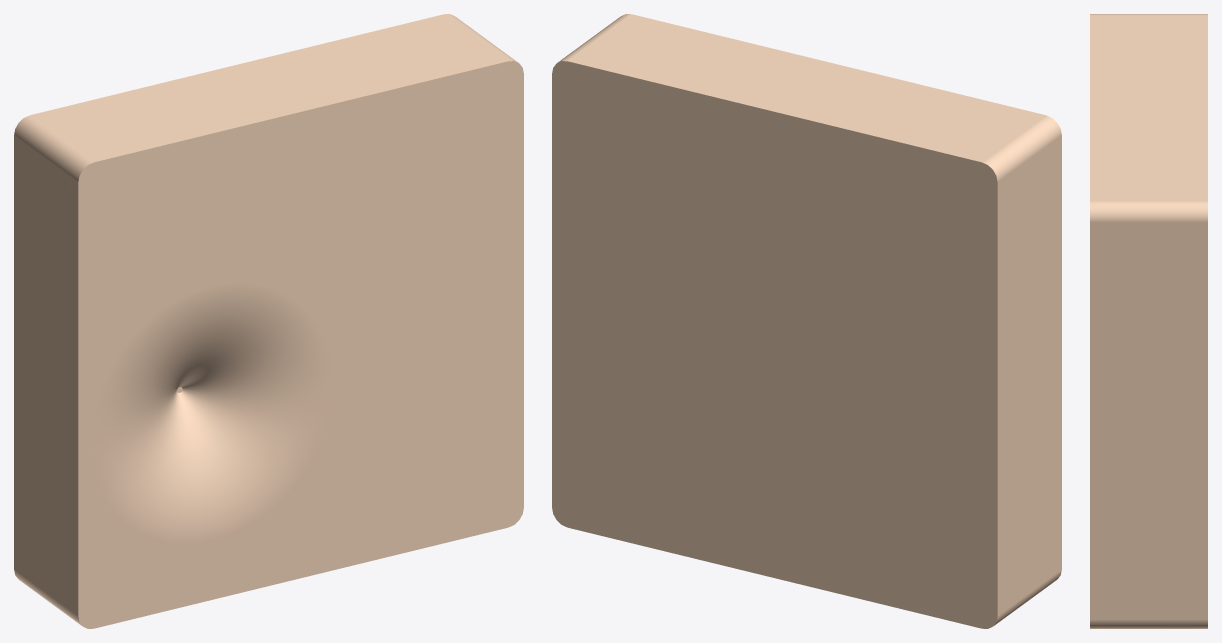
Rendered from Tissue_n40_n20.obj.
3 renders of one model, left to right at view 1: azimuth 30°, elevation 25°; view 2: azimuth 150°, elevation 25°; view 3: azimuth 270°, elevation 25°, orthographic. The views are drawn at different scales.
Parts seen in each view (by area): view 1: mesh 1 Tissue_n40_n20; view 2: mesh 1 Tissue_n40_n20; view 3: mesh 1 Tissue_n40_n20.
Part boxes in pixels (left/top/right/bottom): mesh 1 Tissue_n40_n20: left=14, top=14, right=523, bottom=628; mesh 1 Tissue_n40_n20: left=552, top=14, right=1061, bottom=628; mesh 1 Tissue_n40_n20: left=1090, top=14, right=1207, bottom=628.
Bounding box in the file's own units: 0.2 × 0.2 × 0.05.
